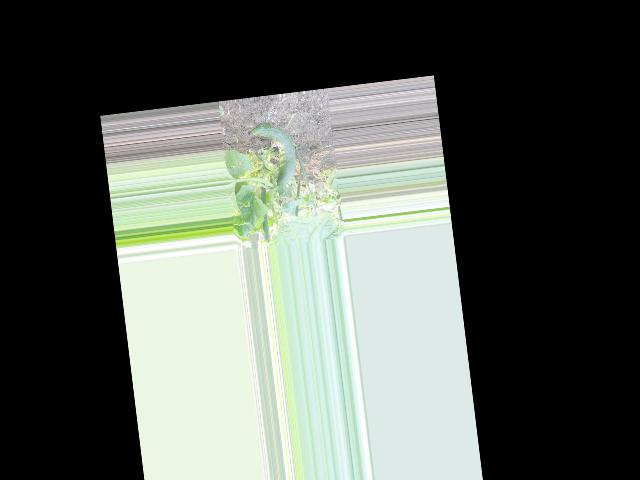cucumber: (250, 120, 299, 190)
